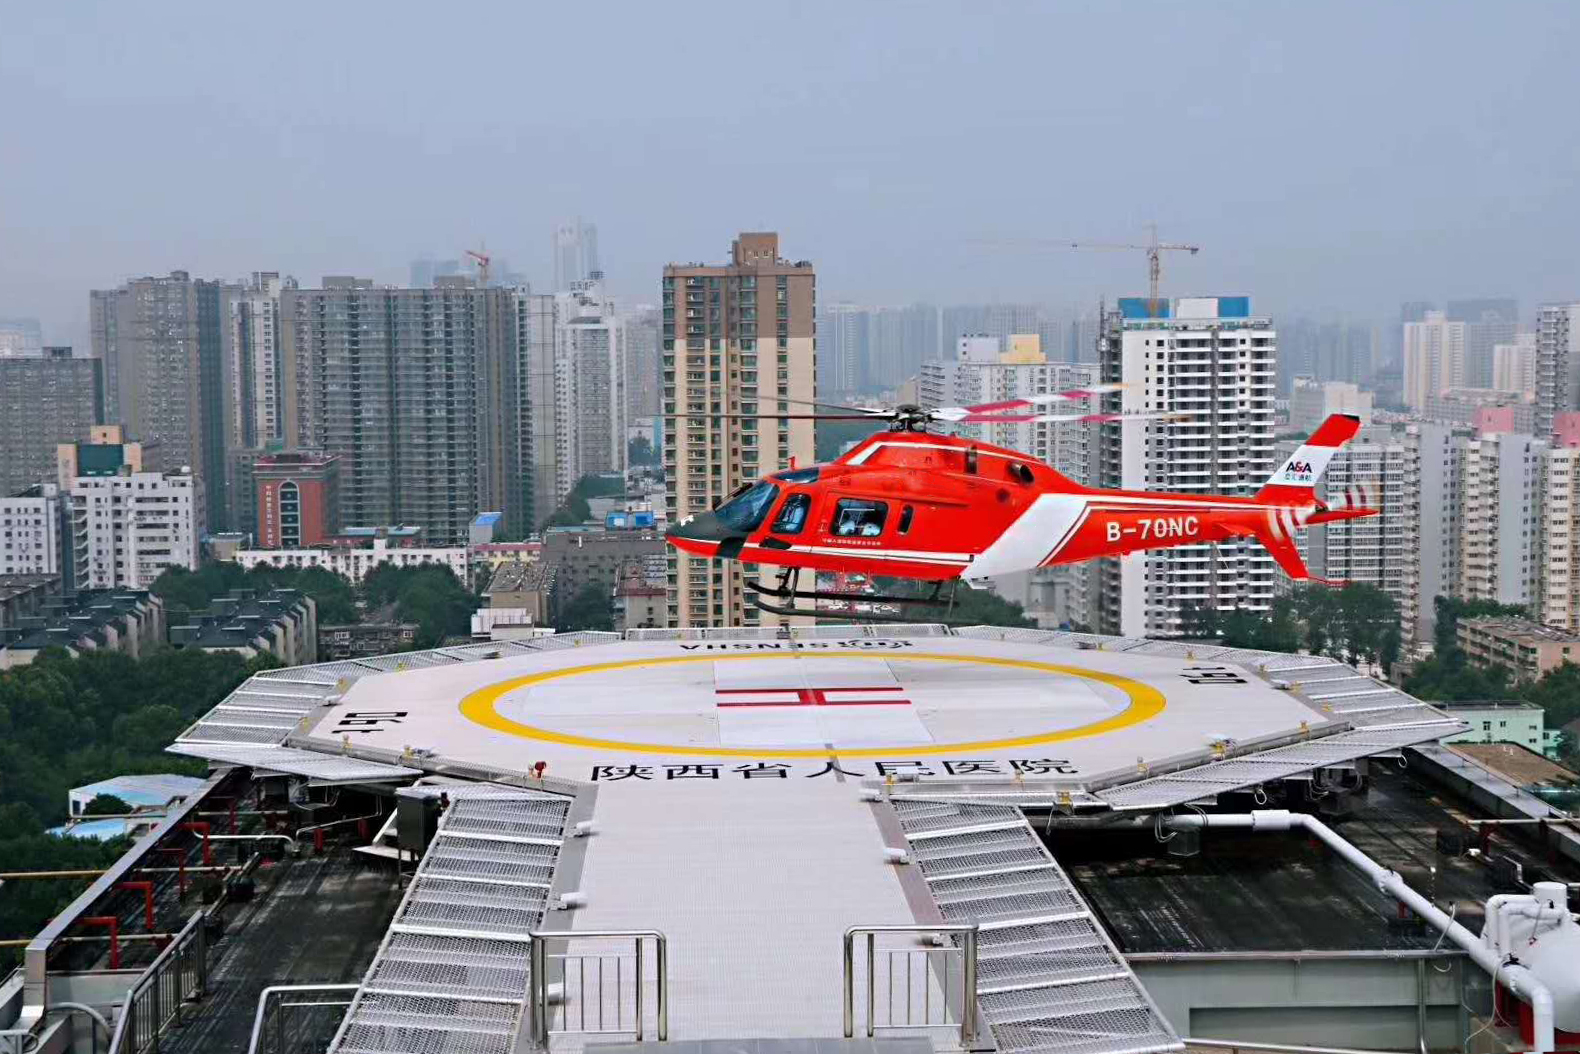H: (715, 686, 912, 708)
